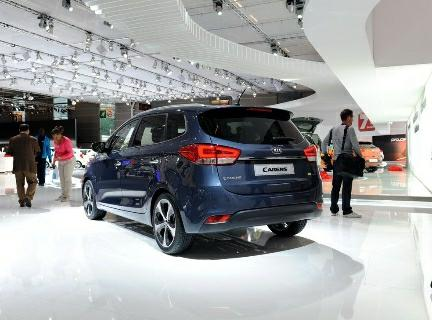car: (60, 93, 331, 269)
